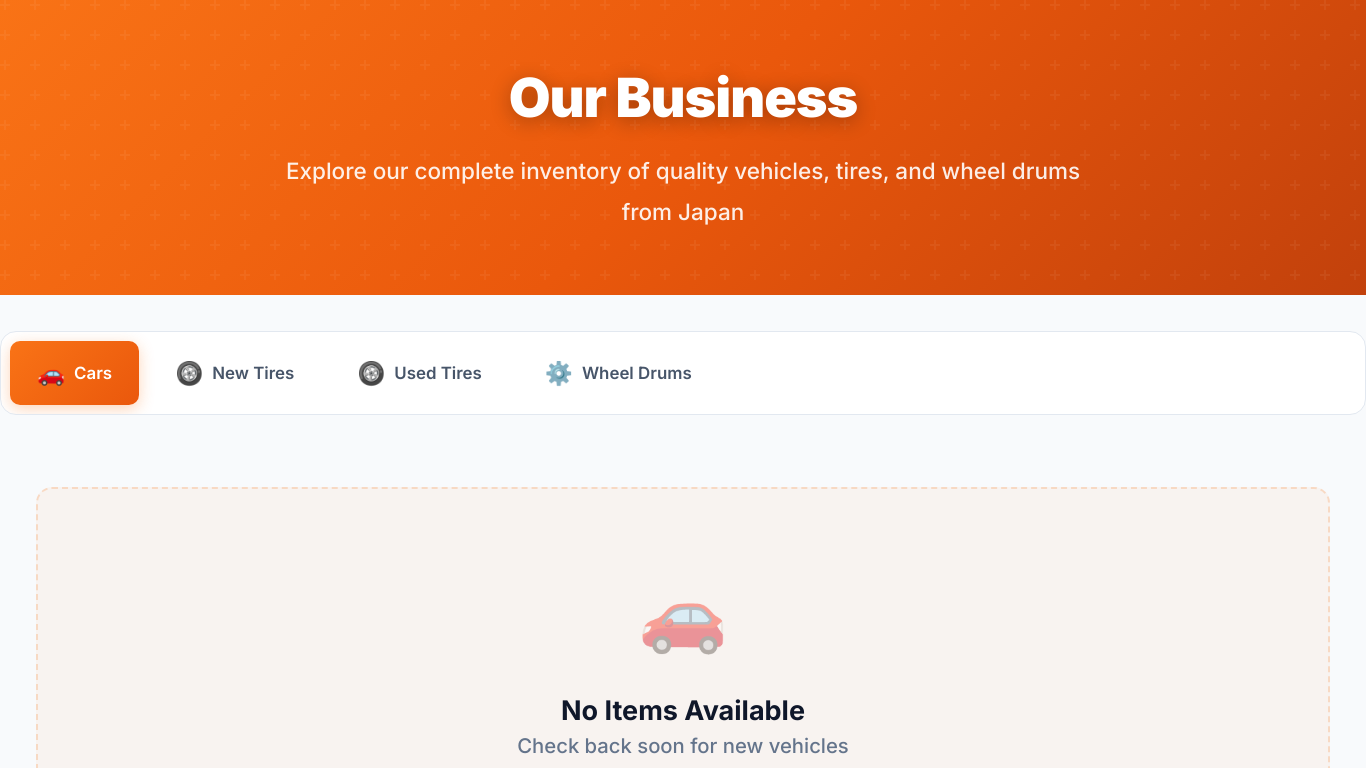
Scenario: Business › tires content › should display placeholder for used tires without image
This screenshot has width=1366, height=768.
Click the button "🛞 Used Tires".
click(420, 373)  # box top-left (330, 341), bottom-right (509, 405)
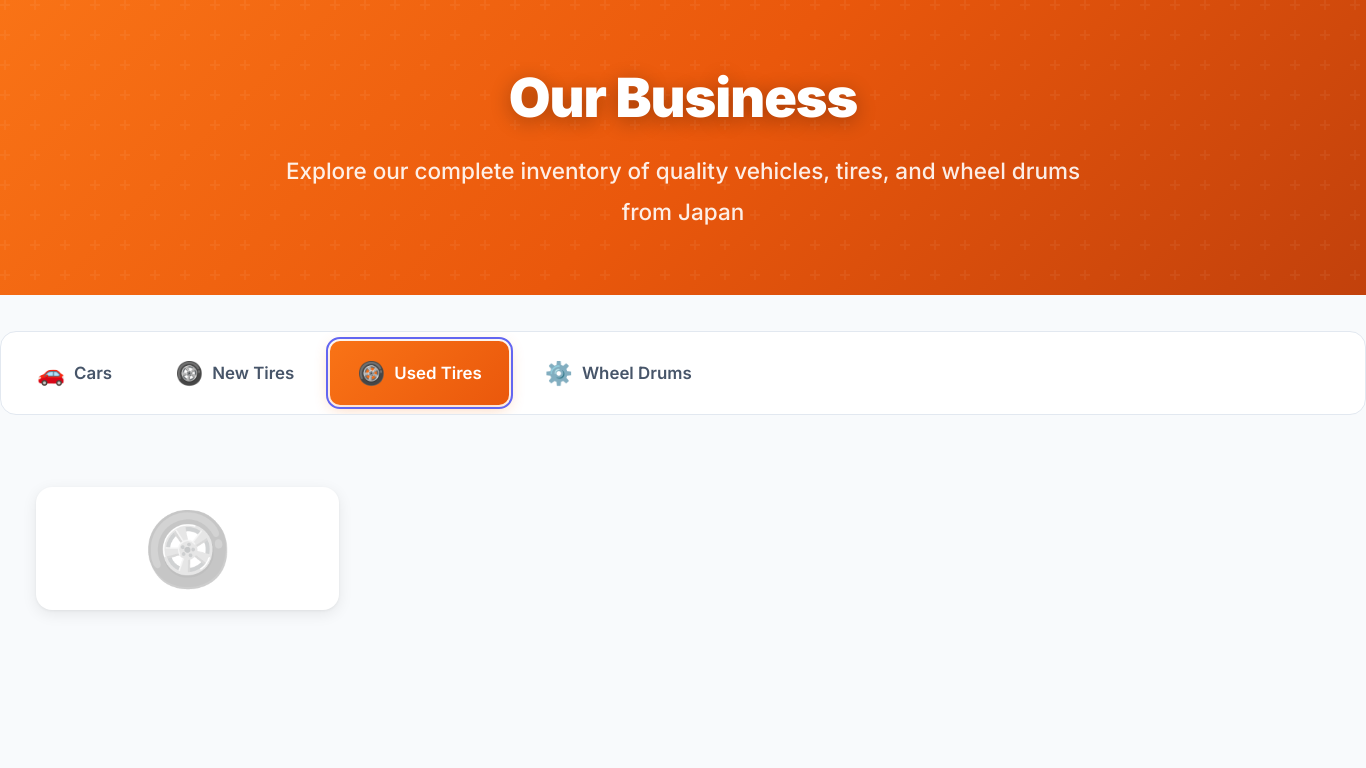
Check: the picture with class "business-card__placeholder" reads "🛞", box top-left (143, 504), bottom-right (232, 591)
